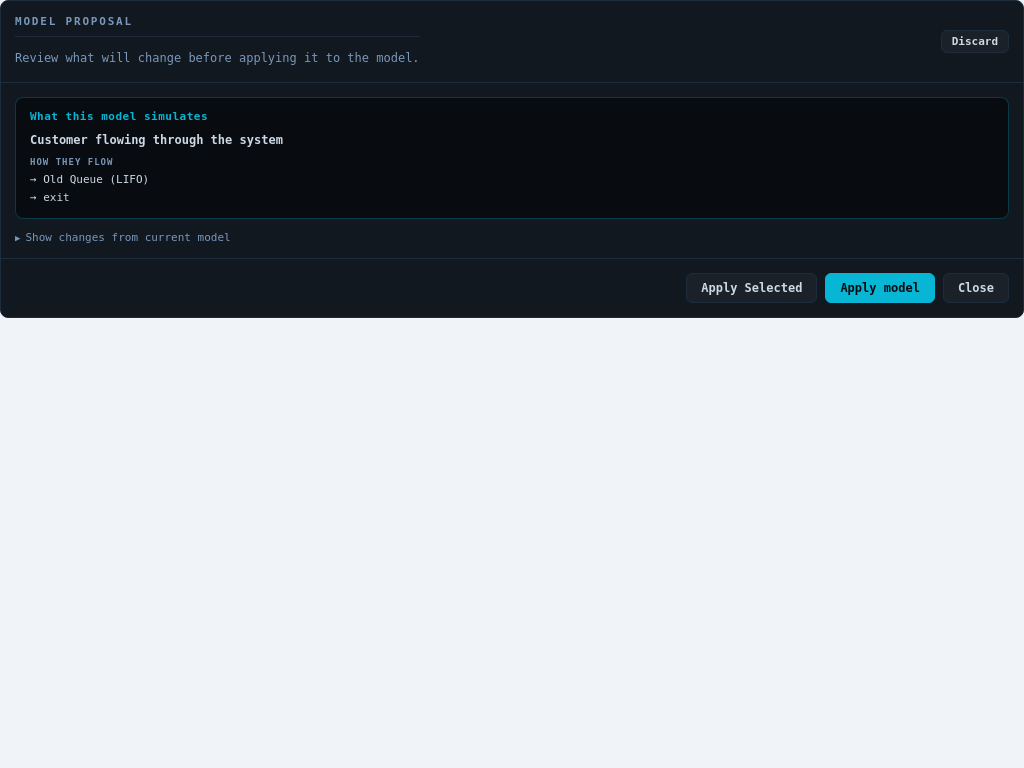
Scenario: ModelDiffPreview › summarises modified proposal items without dumping raw JSON
# Expand technical changes to see diff content
Click the button "▶ Show changes from current model".
click(123, 238)  # box 15,231 -> 231,244
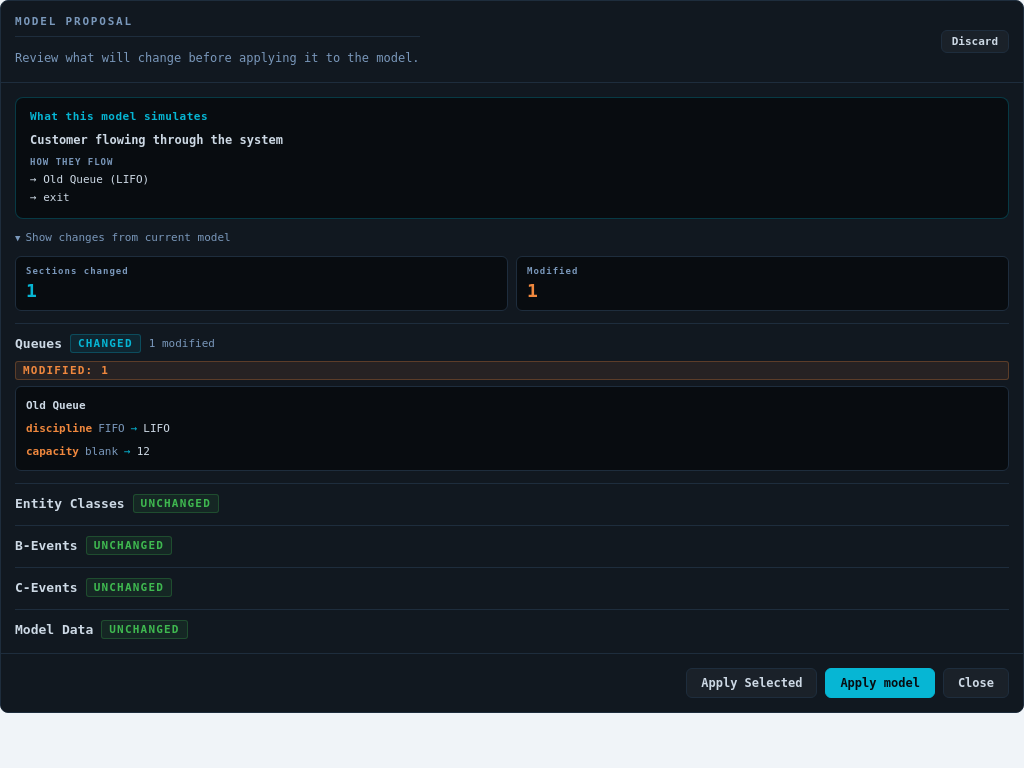
Now the text "Old Queue" is shown, box 26,399 -> 86,412
Now the text "discipline" is shown, box 26,420 -> 92,438
Now the text "FIFO" is shown, box 98,420 -> 125,438
